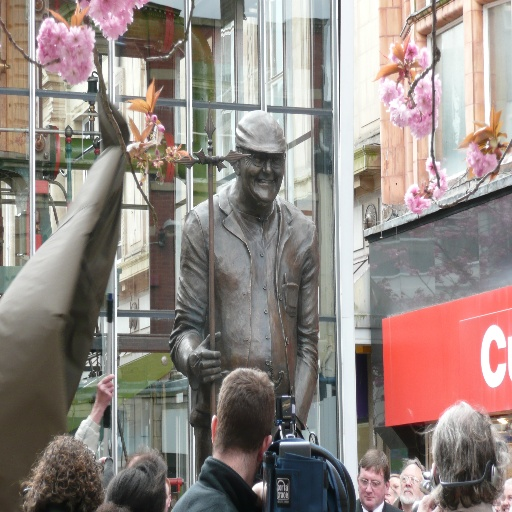hand: (183, 333, 232, 394), (95, 372, 114, 414), (415, 494, 445, 511)
